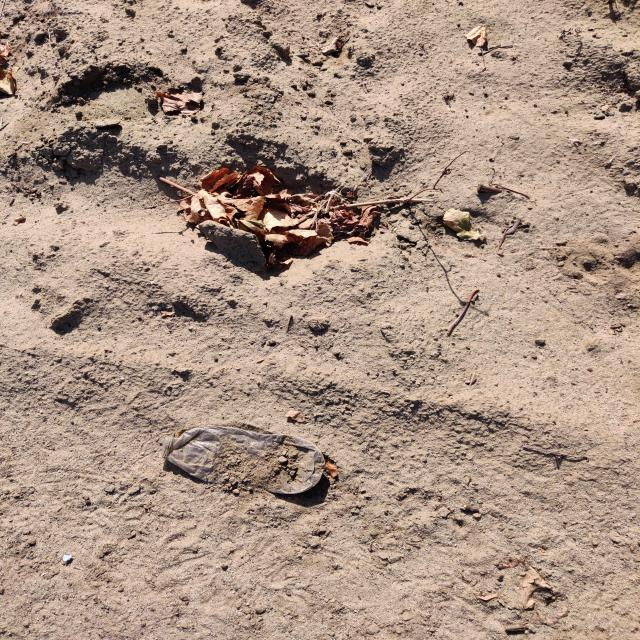litter: (164, 426, 324, 498)
